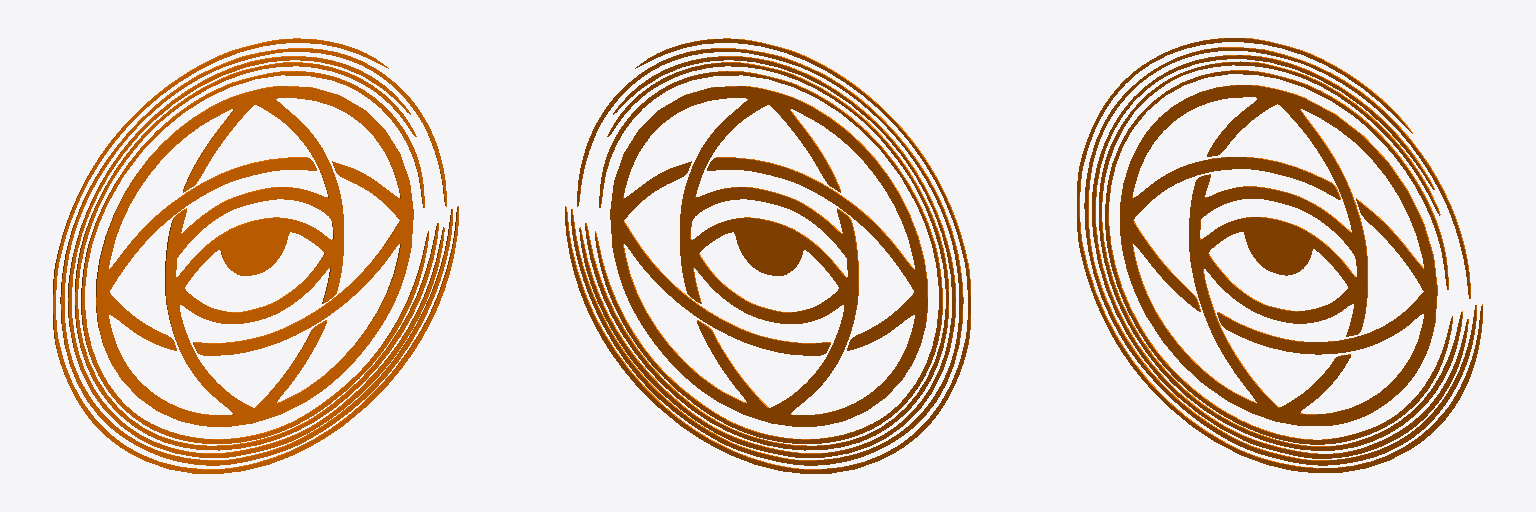
The model's file is tinker.obj.
3 renders of one model, left to right at view 1: azimuth 30°, elevation 25°; view 2: azimuth 150°, elevation 25°; view 3: azimuth 330°, elevation 25°, orthographic.
Visible parts, largest first — view 1: obj_0; view 2: obj_0; view 3: obj_0.
Boxes of the visible parts, x1,y1,x2,y2 form: obj_0: [53, 38, 458, 473]; obj_0: [565, 38, 970, 473]; obj_0: [1077, 38, 1482, 472].
Size of the model in its own units: 29.21 by 29.11 by 0.1.